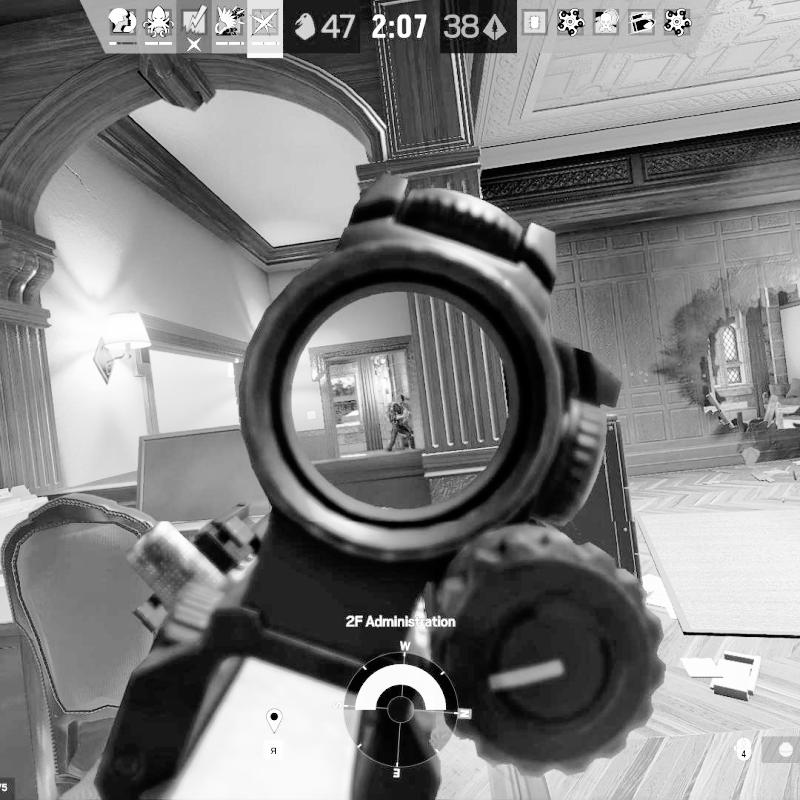Character: (386, 392, 417, 454)
Head: (396, 393, 406, 407)
